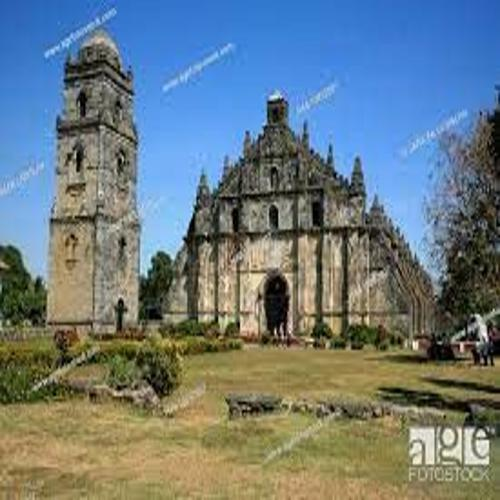Paoay Church: (39, 22, 454, 360)
